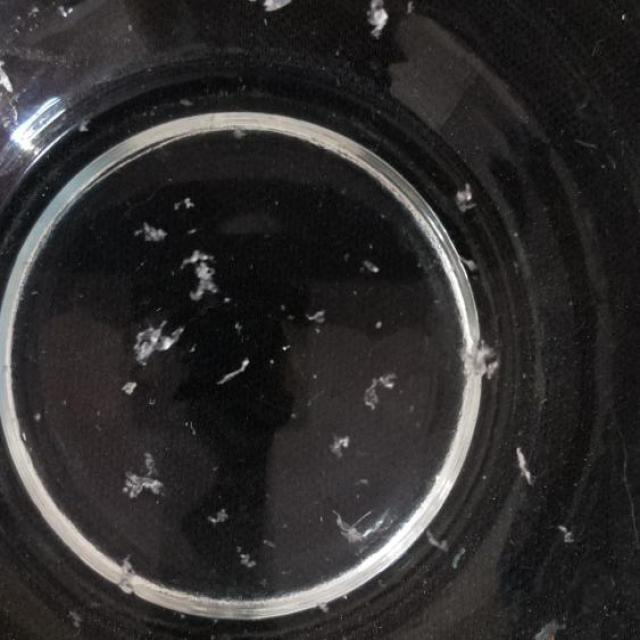fiber: (330, 510, 399, 550), (177, 248, 224, 306), (125, 453, 168, 505), (460, 335, 505, 382), (135, 320, 182, 365), (360, 372, 401, 411), (530, 614, 578, 640), (214, 356, 252, 386), (61, 606, 92, 638), (328, 429, 356, 463), (364, 0, 390, 36), (456, 249, 486, 279), (556, 520, 585, 550), (116, 552, 134, 598), (516, 445, 536, 486), (133, 222, 169, 244), (203, 505, 234, 529), (424, 528, 448, 556), (448, 547, 469, 578), (50, 2, 85, 20), (234, 544, 256, 570), (304, 306, 332, 326), (458, 184, 477, 213), (172, 194, 196, 216), (311, 598, 337, 616), (358, 256, 385, 273), (119, 376, 139, 398), (262, 2, 290, 15), (182, 416, 198, 436), (77, 118, 92, 137), (231, 122, 245, 141), (263, 534, 277, 553), (32, 409, 44, 426), (232, 320, 246, 332), (268, 352, 277, 370), (281, 340, 290, 358), (374, 318, 386, 331)
